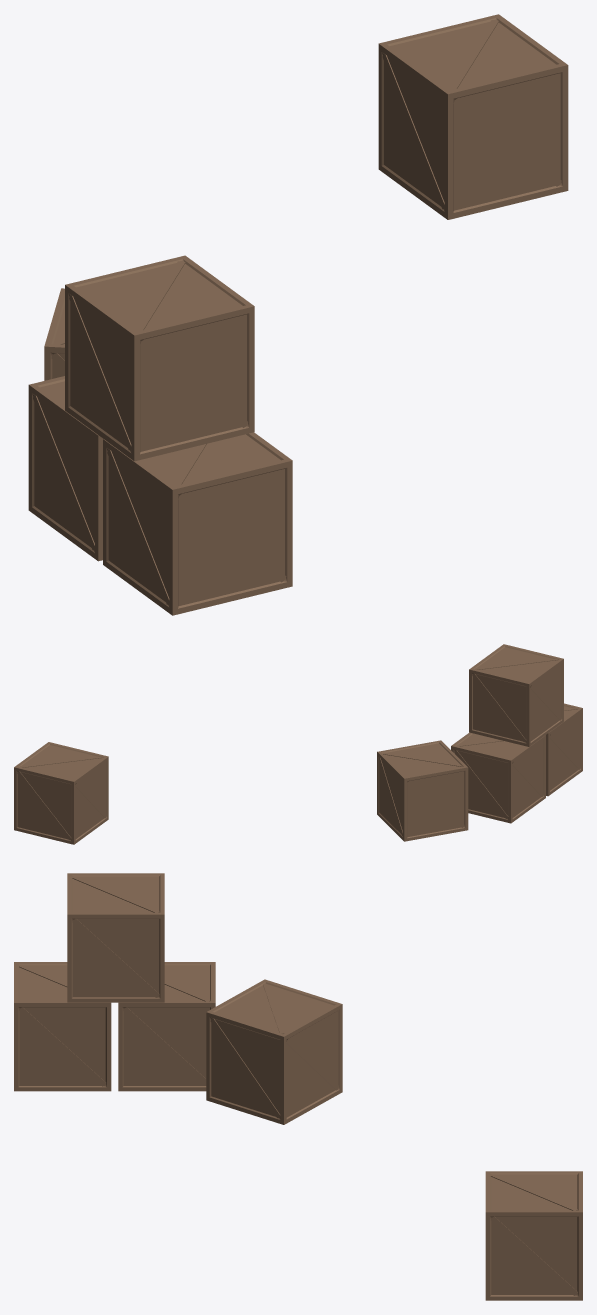
The model's file is Dungeon Isometric.gltf.
3 views of the same model, one above another, from view 1: azimuth 30°, elevation 25°; view 2: azimuth 150°, elevation 25°; view 3: azimuth 270°, elevation 25° (orthographic). The views are drawn at different scales.
Parts seen in each view (by area): view 1: Cube.003, Cube.007, Cube.004, Cube.005, Cube.006; view 2: Cube.003, Cube.007, Cube.006, Cube.005, Cube.004; view 3: Cube.006, Cube.003, Cube.007, Cube.004, Cube.005.
Boxes of the visible parts, left/top/right/bottom form: Cube.003: left=378, top=14, right=568, bottom=219; Cube.007: left=65, top=255, right=254, bottom=461; Cube.004: left=103, top=432, right=292, bottom=615; Cube.005: left=28, top=376, right=103, bottom=561; Cube.006: left=44, top=288, right=64, bottom=380; Cube.003: left=14, top=742, right=108, bottom=844; Cube.007: left=469, top=644, right=563, bottom=746; Cube.006: left=377, top=740, right=468, bottom=841; Cube.005: left=451, top=732, right=545, bottom=823; Cube.004: left=546, top=703, right=582, bottom=796; Cube.006: left=206, top=979, right=342, bottom=1124; Cube.003: left=485, top=1171, right=582, bottom=1300; Cube.007: left=67, top=873, right=164, bottom=1002; Cube.004: left=14, top=962, right=111, bottom=1091; Cube.005: left=118, top=962, right=215, bottom=1091.
Size of the model in its own units: 4.18 by 1.38 by 4.01.
